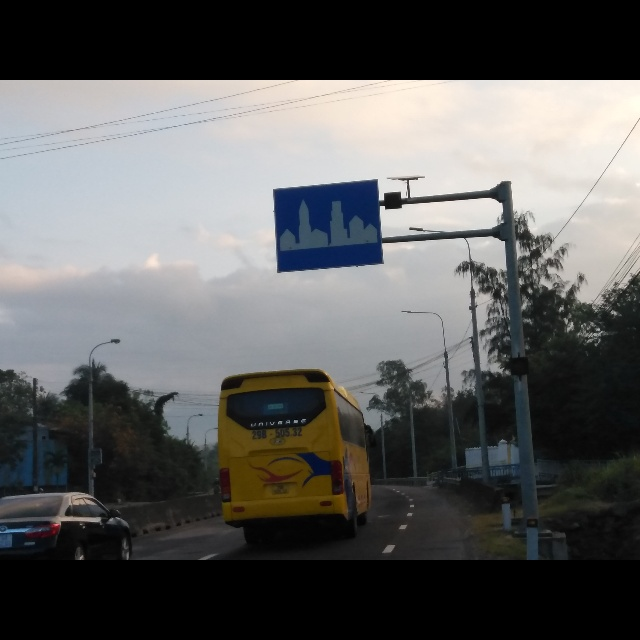Khu đông dân cư: (270, 178, 386, 278)
